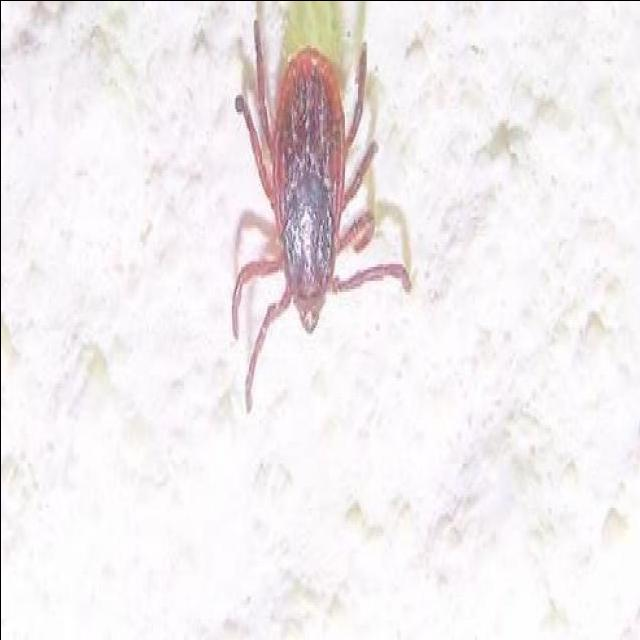Rhipicephalus Sanguineus-F: (231, 17, 410, 413)
